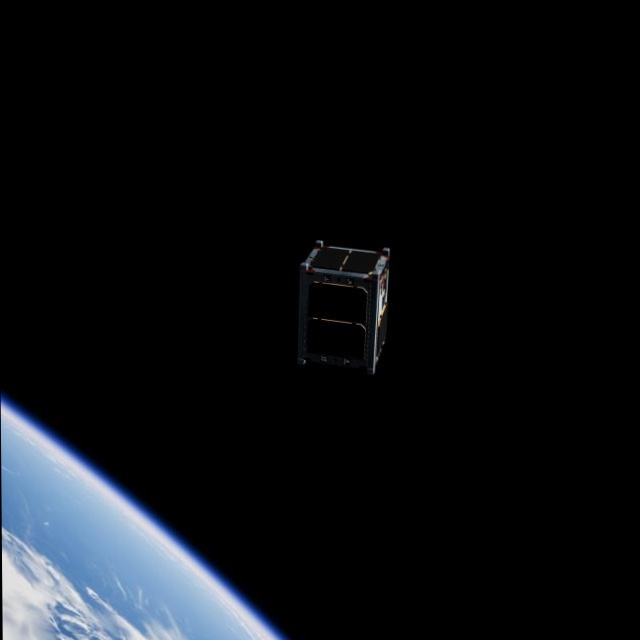medium_debris: (291, 239, 394, 380)
